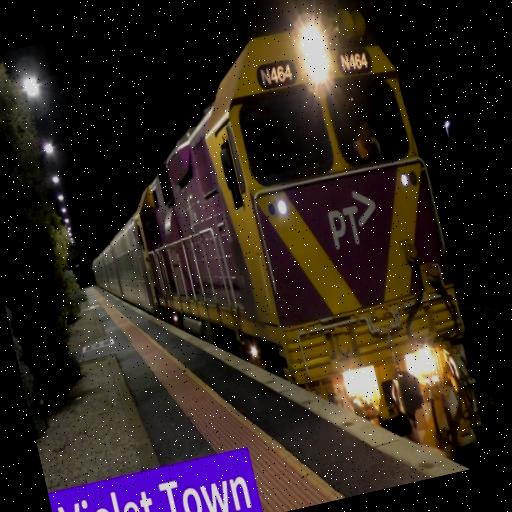platform_edge: (93, 286, 467, 512)
